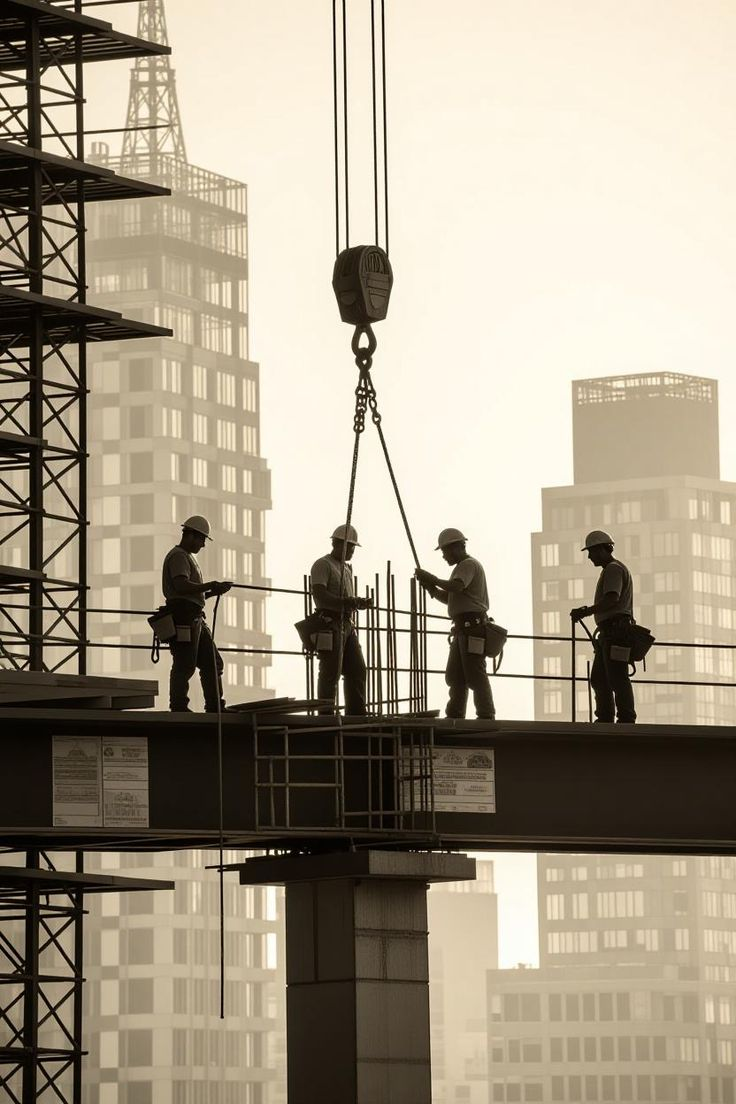hardhat: (574, 522, 629, 568), (431, 526, 483, 557), (323, 509, 359, 546), (173, 513, 212, 544)
person: (142, 503, 246, 724), (553, 511, 657, 731), (288, 513, 385, 718), (427, 511, 505, 726)
